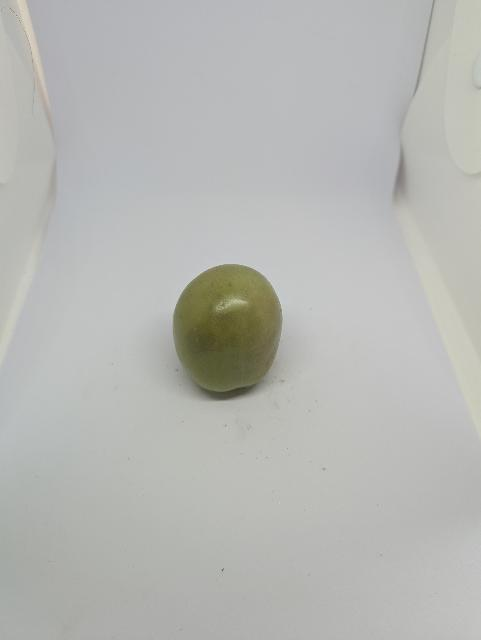green: (150, 258, 302, 415)
